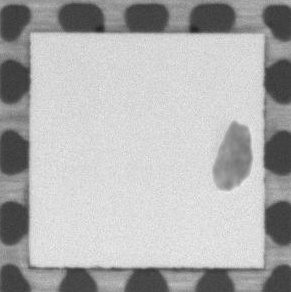DIE_INK: (210, 117, 254, 193)
